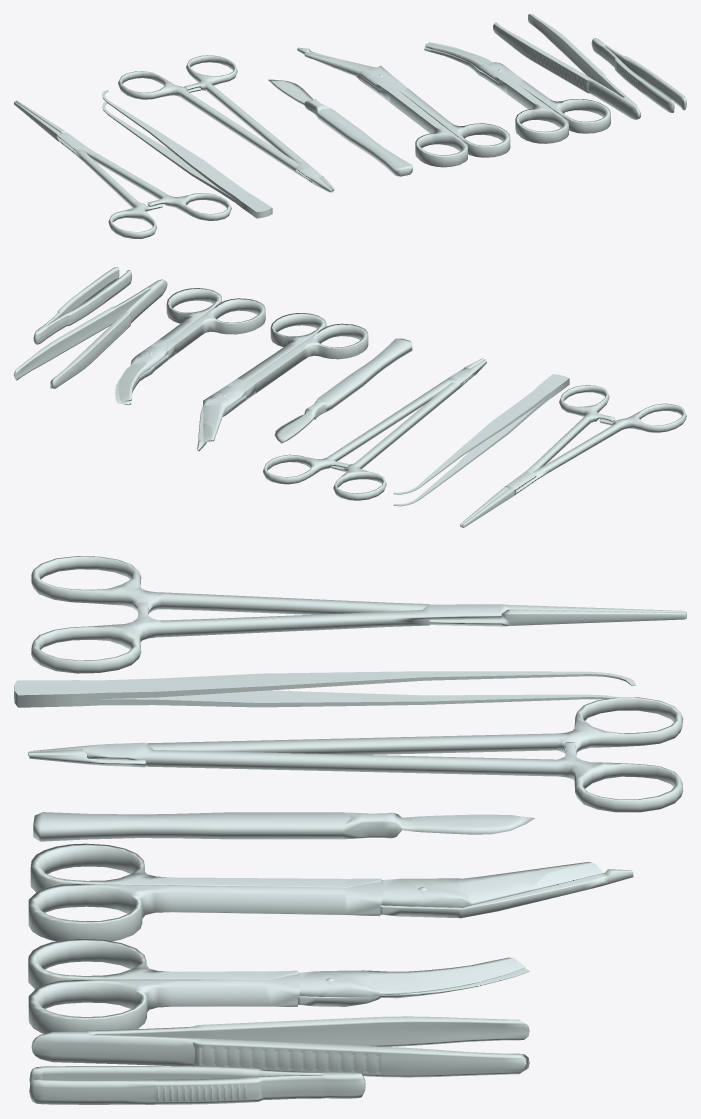
The model's file is SurgeryTools.fbx.
The picture shows the model from 3 angles, top to bottom: view 1: azimuth 30°, elevation 25°; view 2: azimuth 150°, elevation 25°; view 3: azimuth 270°, elevation 25°; orthographic projection. The views are drawn at different scales.
Parts seen in each view (by area): view 1: SurgeryTools; view 2: SurgeryTools; view 3: SurgeryTools.
Boxes of the visible parts, left/top/right/bottom form: SurgeryTools: left=14, top=14, right=686, bottom=238; SurgeryTools: left=14, top=267, right=686, bottom=527; SurgeryTools: left=14, top=556, right=686, bottom=1104.
Bounding box in the file's own units: 49.37 × 1.39 × 26.42.
Materials: 1 (1 with a texture image).
